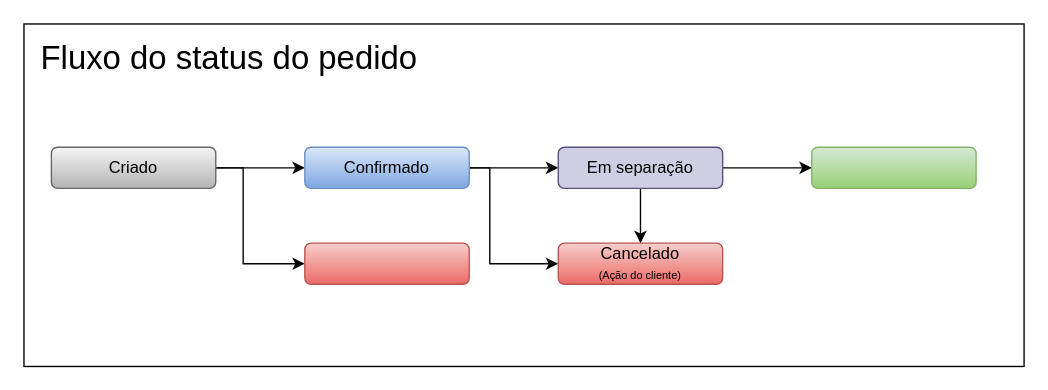
Image size: 1048x390. Some labels were removed from this diagram. Here are the shapes that lost their labels. From the top down, the centre of each, then its label:
At point (893, 167): "Finalizado (Pronto para entrega/retirada)".
At point (386, 263): "Rejeitado (Falta de estoque)".
